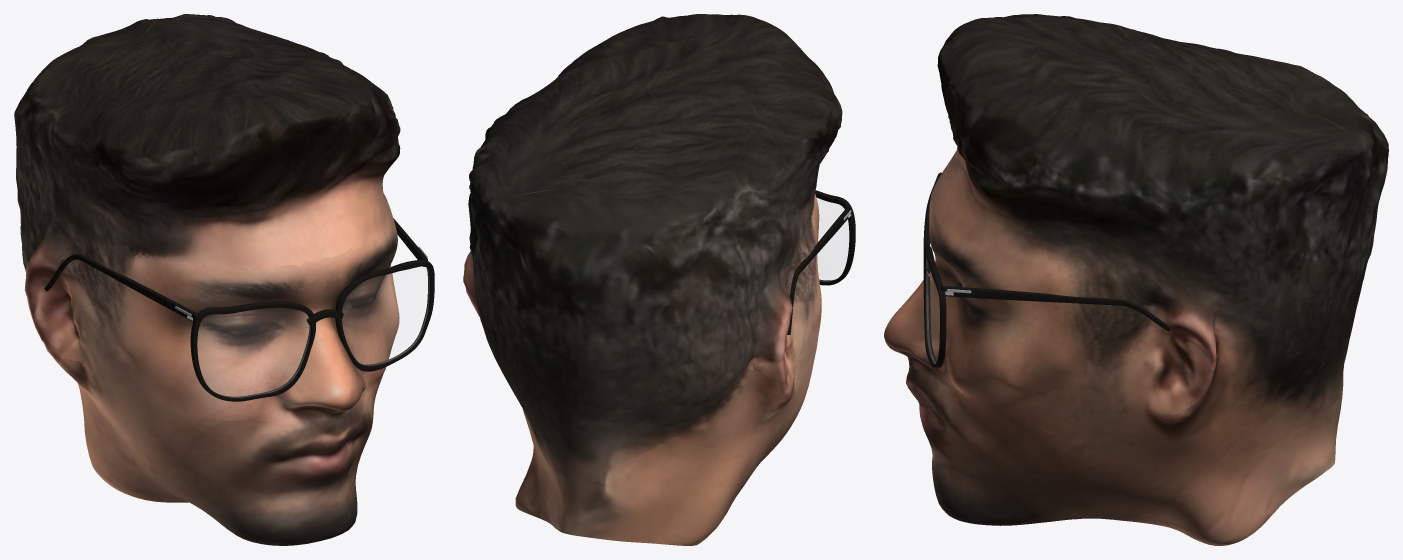
The picture shows the model from 3 angles, left to right: view 1: azimuth 30°, elevation 25°; view 2: azimuth 150°, elevation 25°; view 3: azimuth 270°, elevation 25°; orthographic projection. The views are drawn at different scales.
Visible parts, largest first — view 1: world, Eyeglass rim 1, Eyeglass rim 2, Eyeglass temple 1; view 2: world, Eyeglass rim 1, Eyeglass temple 1; view 3: world, Eyeglass temple 2, Eyeglass rim 2.
Part boxes in pixels (x1=…): world: x1=14, y1=14, x2=400, y2=545; Eyeglass rim 1: x1=190, y1=301, x2=315, y2=401; Eyeglass rim 2: x1=335, y1=259, x2=434, y2=371; Eyeglass temple 1: x1=44, y1=254, x2=197, y2=321; world: x1=463, y1=14, x2=842, y2=545; Eyeglass rim 1: x1=815, y1=190, x2=855, y2=285; Eyeglass temple 1: x1=787, y1=207, x2=851, y2=334; world: x1=884, y1=14, x2=1388, y2=545; Eyeglass temple 2: x1=941, y1=286, x2=1171, y2=331; Eyeglass rim 2: x1=923, y1=246, x2=946, y2=367.
Bounding box in the file's own units: 0.2263 × 0.3064 × 0.2949.
7 materials, 1 textured.
